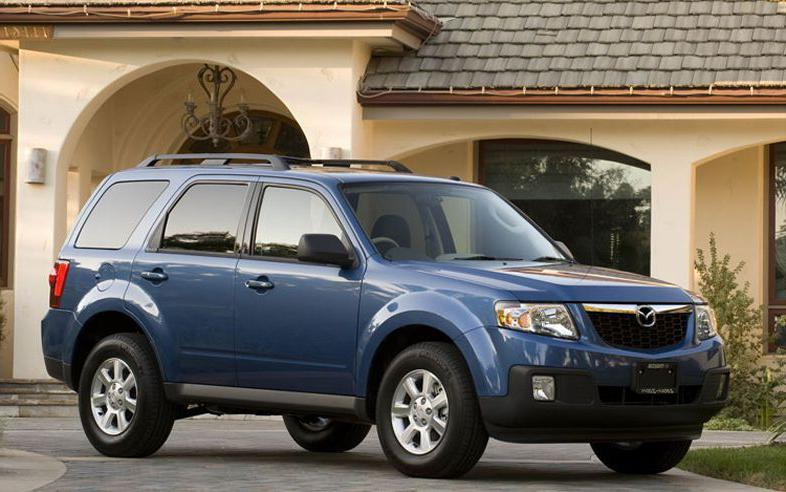Car: (27, 132, 738, 491)
